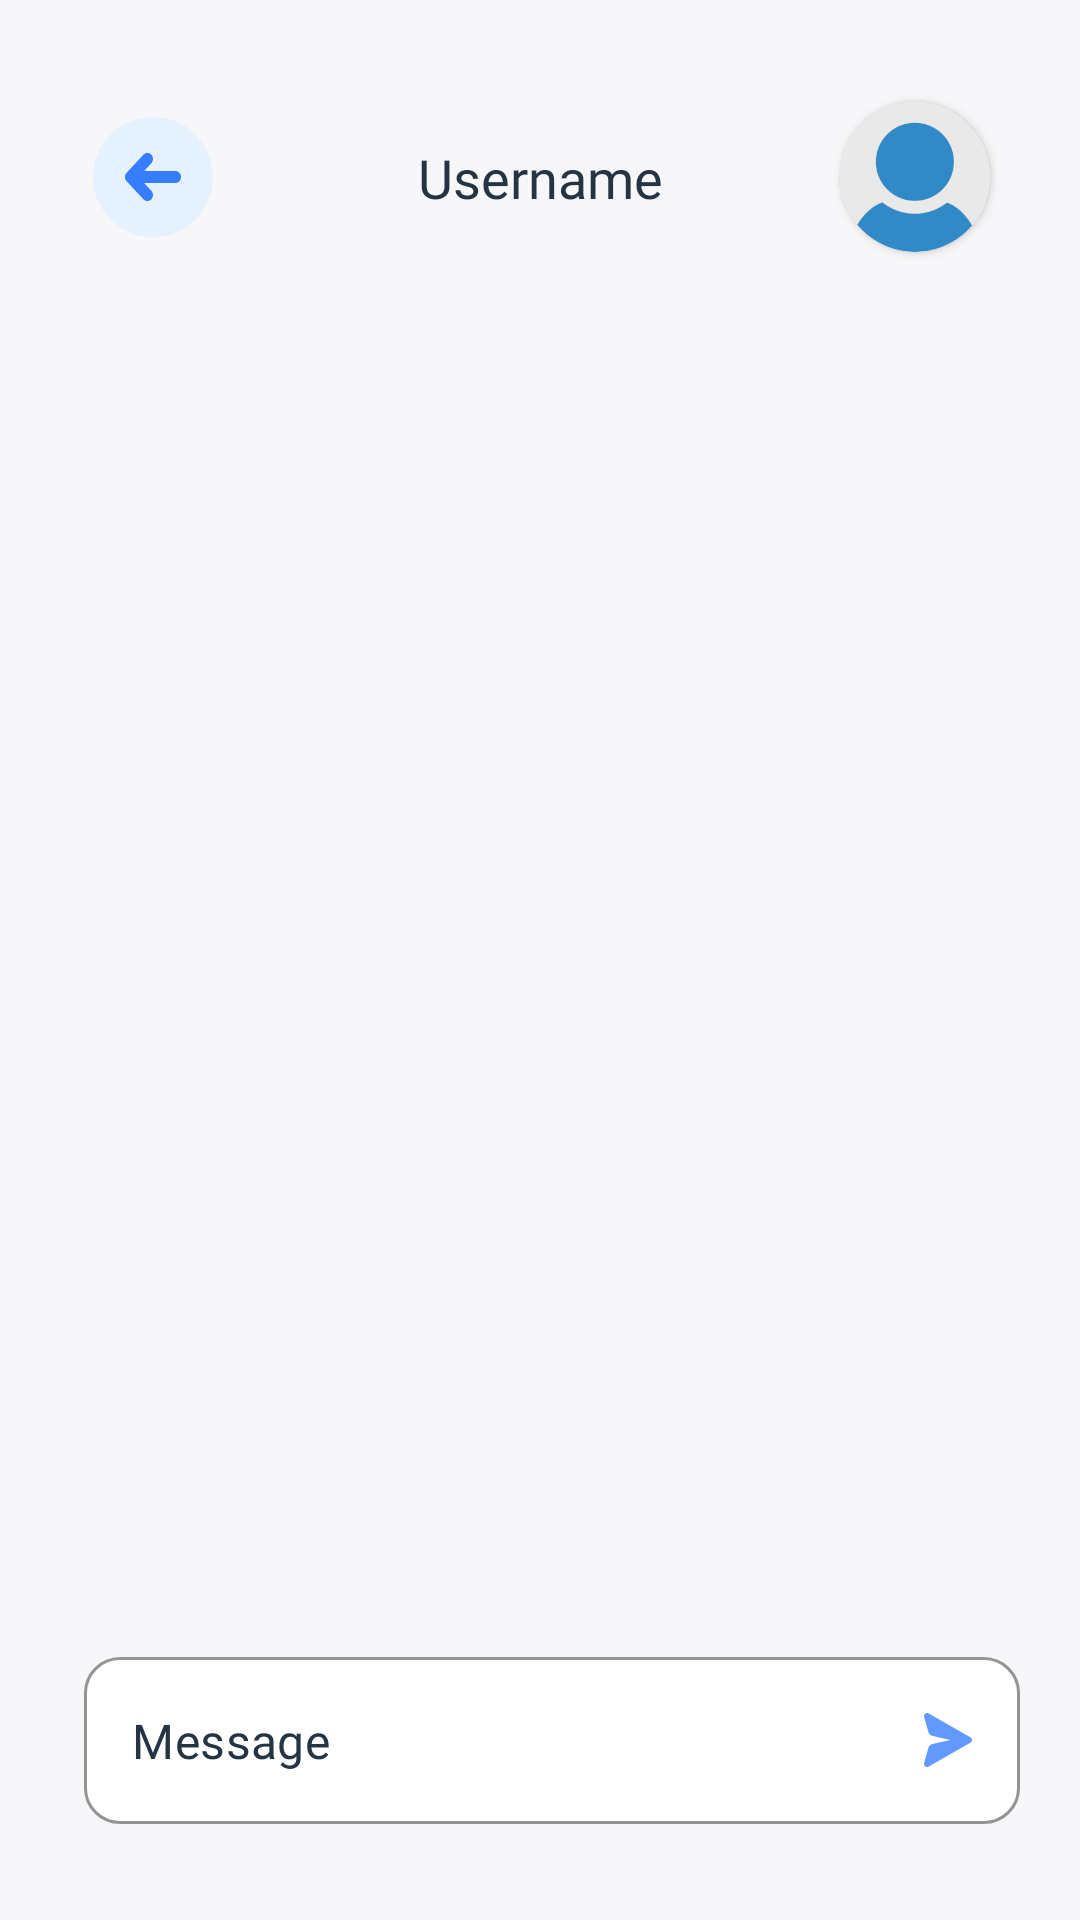

Icons on this 1080w x 1920h Android screen, each with its box as BBox(x1, y1, x2, y2):
Back button: BBox(93, 117, 213, 237)
Profile photo: BBox(840, 102, 990, 252)
send: BBox(924, 1713, 972, 1767)
